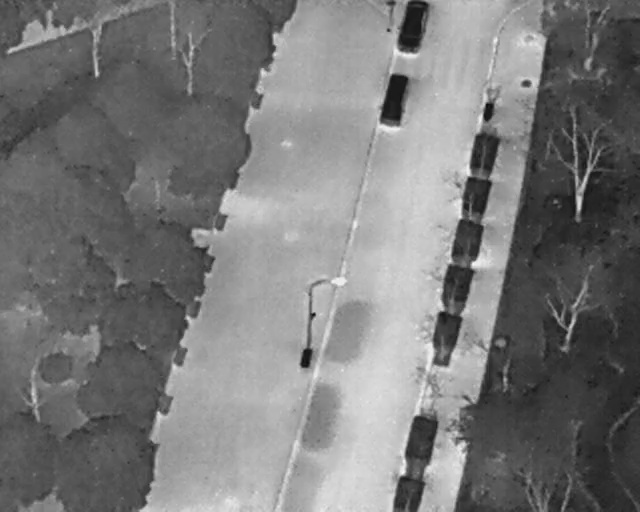Car: (374, 70, 412, 131), (395, 0, 431, 54)
